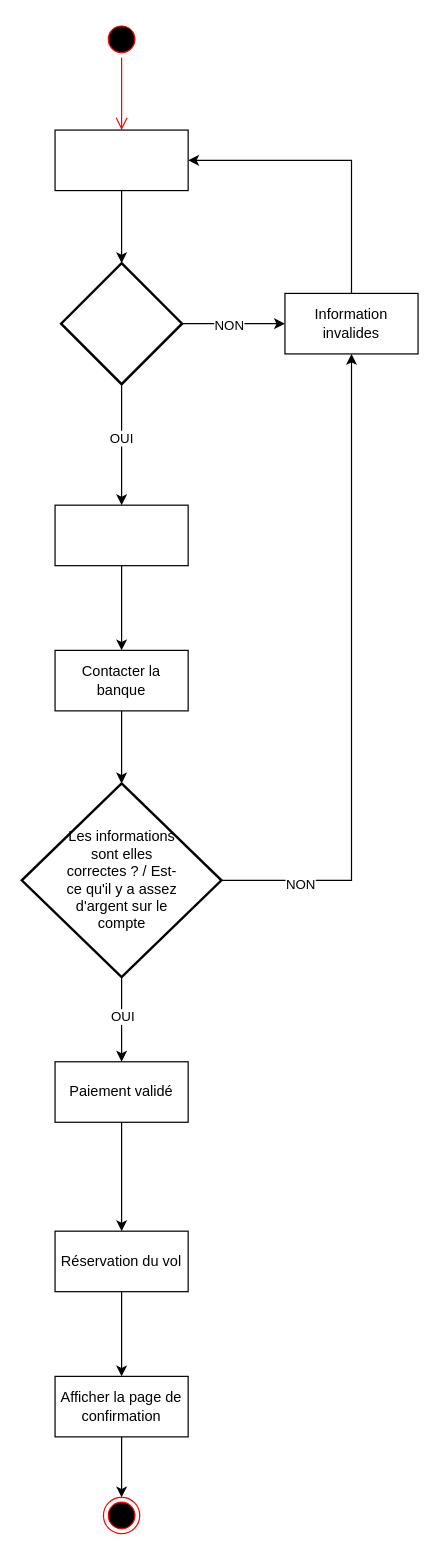
The diagram is 439 pixels wide and 1555 high, and some of its shapes have lost their labels. The shapes that lost their labels are listed below. From the top down, each one's centre as x and y in pixels, then its label:
At (121,160): "Client entre ses informations banquaires".
At (121,323): "Les informations sont au bon format ?".
At (121,535): "Informations valides".
